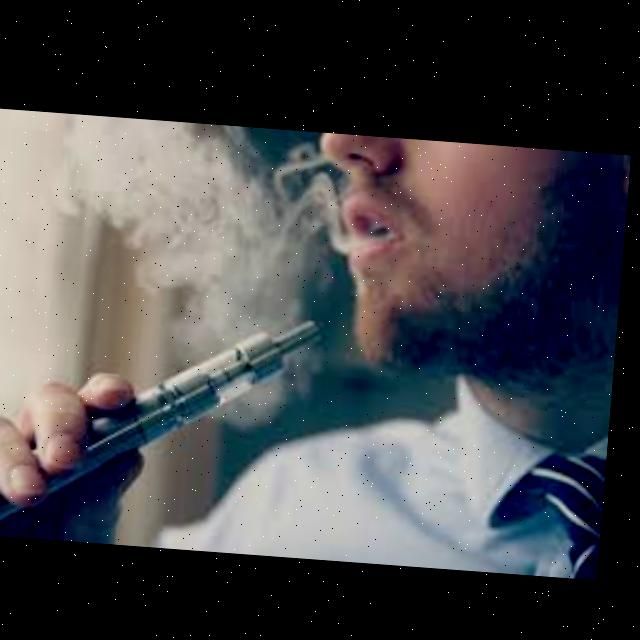vape: (0, 295, 331, 553)
